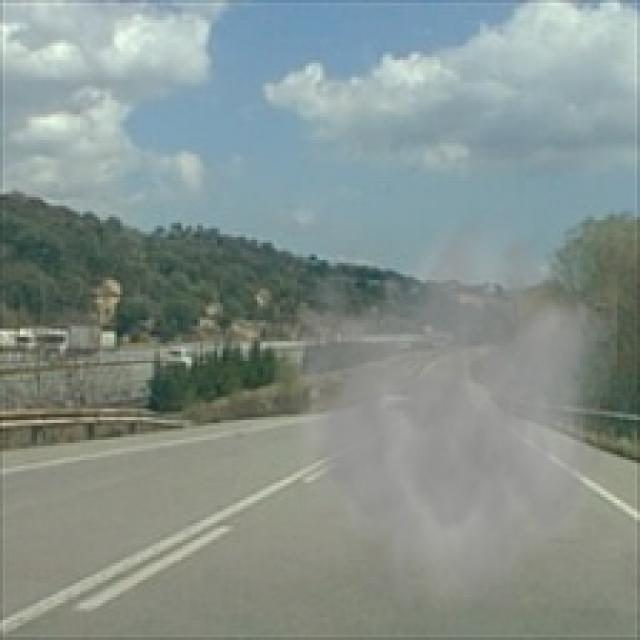smoke: (260, 205, 617, 626)
